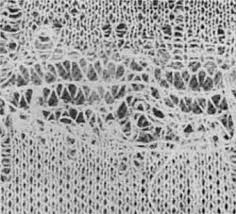Hole: (1, 23, 236, 164)
